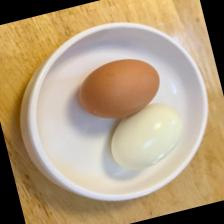egg: (70, 50, 166, 128), (100, 96, 193, 176)
